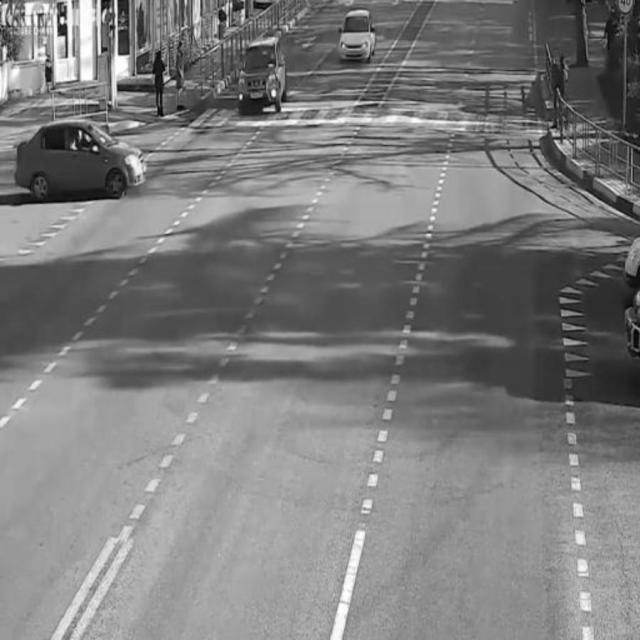person: (546, 53, 576, 126), (150, 44, 170, 115), (173, 38, 188, 109)
vehicle: (15, 116, 149, 204), (238, 38, 288, 109), (338, 9, 380, 65), (619, 235, 639, 291)
